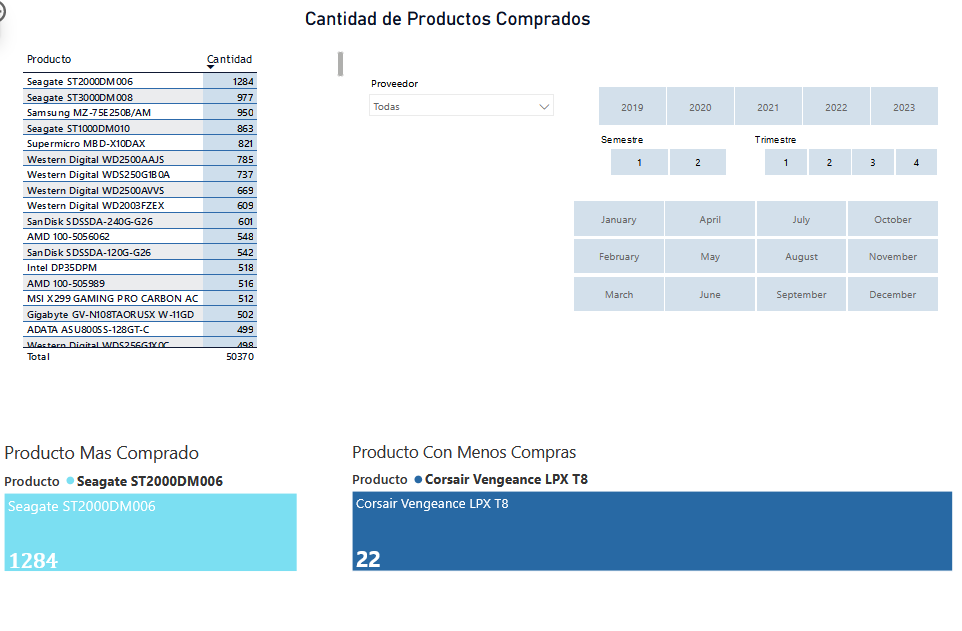

This screenshot's page, from the dashboard's own definition file:
{"tool":"powerbi","page":{"name":"Productos-Mas Comprados","canvas":[1280,800],"ordinal":3},"visuals":[{"type":"actionButton","box":[0,0,100,40],"z":0},{"type":"treemap","title":"Producto Mas Comprado","fields":{"Group":["dimitem.item_name"],"Values":["Sum(factdetalleordencompra.qty)"]},"box":[26.9,572.8,388,174.7],"z":1000},{"type":"treemap","title":"Producto Con Menos Compras","fields":{"Group":["dimitem.item_name"],"Values":["Sum(factdetalleordencompra.qty)"]},"box":[475.4,572.8,784.5,174.7],"z":2000},{"type":"tableEx","title":"Cantidad de Productos Comprados","fields":{"Values":["dimitem.item_name","factdetalleordencompra.CantidadTotalItem"]},"box":[50.4,65.5,425,411.5],"z":3000},{"type":"textbox","box":[414.9,10.1,453.5,60.5],"z":4000},{"type":"slicer","fields":{"Values":["dimdate.year"]},"box":[772.8,110.4,486.4,62.4],"z":5000},{"type":"slicer","fields":{"Values":["dimdate.semestre"]},"box":[788.8,172.8,198.4,65.6],"z":6000},{"type":"slicer","fields":{"Values":["dimdate.trimestre"]},"box":[987.2,172.8,272,65.6],"z":7000},{"type":"slicer","fields":{"Values":["dimdate.fecha.Variación.Date Hierarchy.Month"]},"box":[740.8,257.6,518.4,155.2],"z":8000},{"type":"slicer","fields":{"Values":["dimsupplier.supplier_name"]},"box":[492.8,97.6,259.2,86.4],"z":9000}]}

Visuals, with their boxes on the page's 1280x800 design canvas (x1, y1, x2, y2). These are canvas units, not pixel positions in the 962x631 screenshot, which may show the page scaled, cropped or inside an application window:
actionButton: <bbox>0, 0, 100, 40</bbox>
"Producto Mas Comprado" treemap: <bbox>27, 573, 415, 748</bbox>
"Producto Con Menos Compras" treemap: <bbox>475, 573, 1260, 748</bbox>
"Cantidad de Productos Comprados" tableEx: <bbox>50, 66, 475, 477</bbox>
textbox: <bbox>415, 10, 868, 71</bbox>
slicer - dimdate.year: <bbox>773, 110, 1259, 173</bbox>
slicer - dimdate.semestre: <bbox>789, 173, 987, 238</bbox>
slicer - dimdate.trimestre: <bbox>987, 173, 1259, 238</bbox>
slicer - dimdate.fecha.Variación.Date Hierarchy.Month: <bbox>741, 258, 1259, 413</bbox>
slicer - dimsupplier.supplier_name: <bbox>493, 98, 752, 184</bbox>
